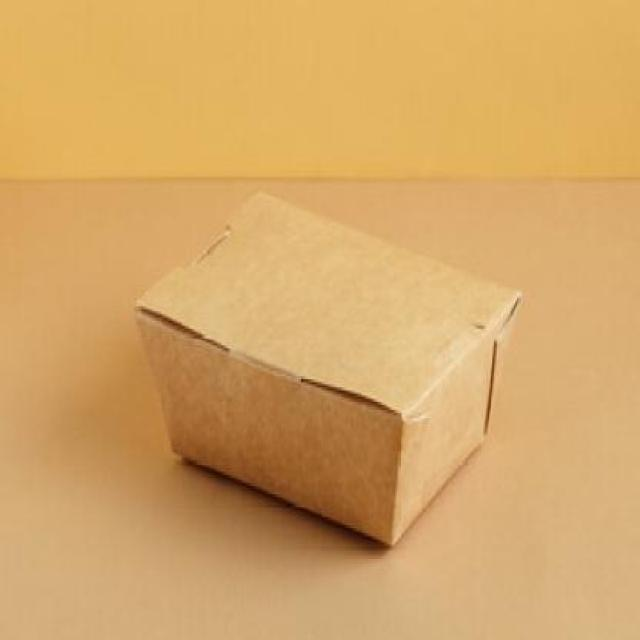box: (127, 187, 533, 552)
